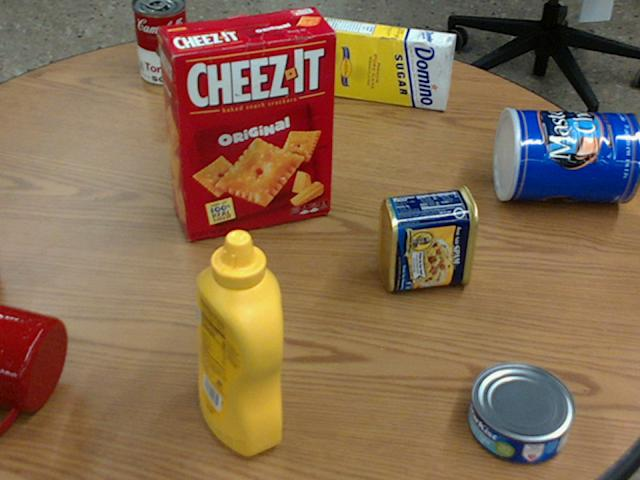cracker_box: (157, 8, 336, 240)
master_chef_can: (492, 108, 639, 202)
mug: (0, 301, 66, 430)
mustard_bottle: (196, 229, 280, 454)
potted_meat_can: (377, 184, 478, 291)
sugar_box: (316, 17, 457, 109)
tomato_soup_can: (133, 0, 190, 84)
tuna_fish_can: (466, 361, 572, 462)
